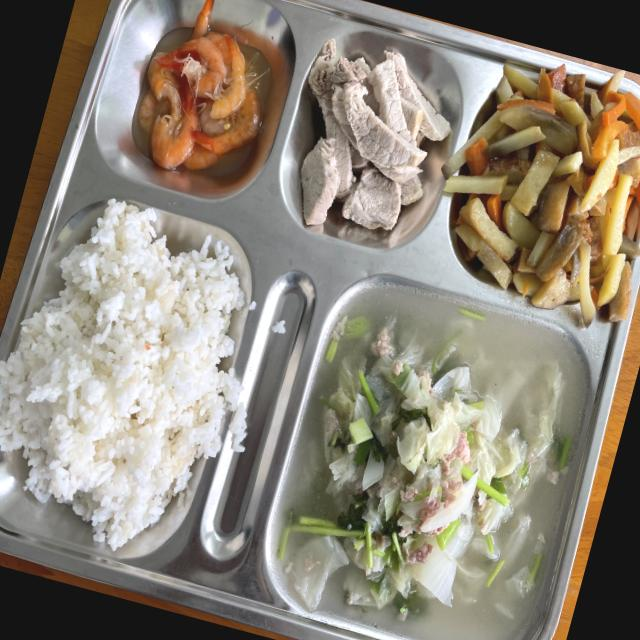bap cai xao: (258, 274, 610, 640)
com: (0, 198, 246, 550)
do chua: (442, 66, 640, 325)
thit luoc: (301, 39, 449, 229)
tom: (139, 0, 259, 169)
